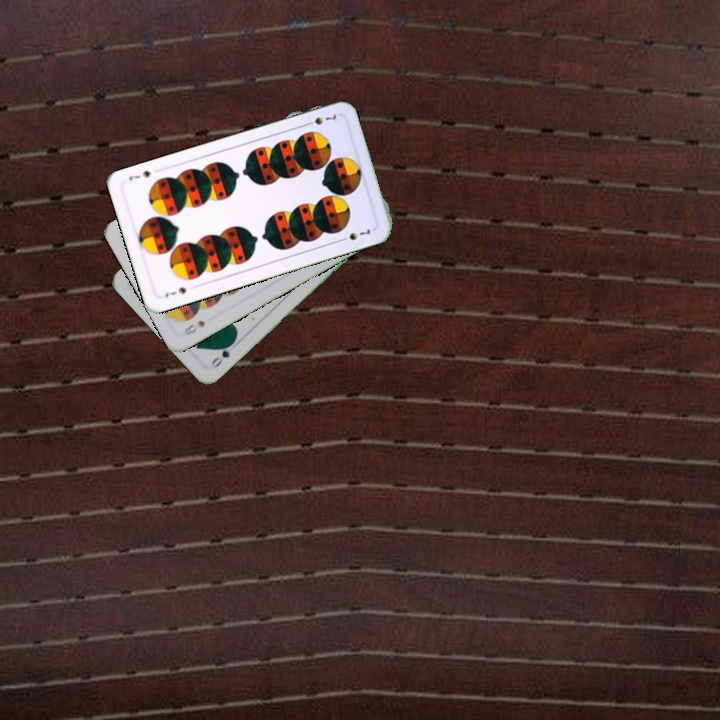GO: (206, 337, 237, 371)
S7: (301, 110, 341, 128), (161, 283, 190, 300)
S8: (180, 317, 208, 338)
